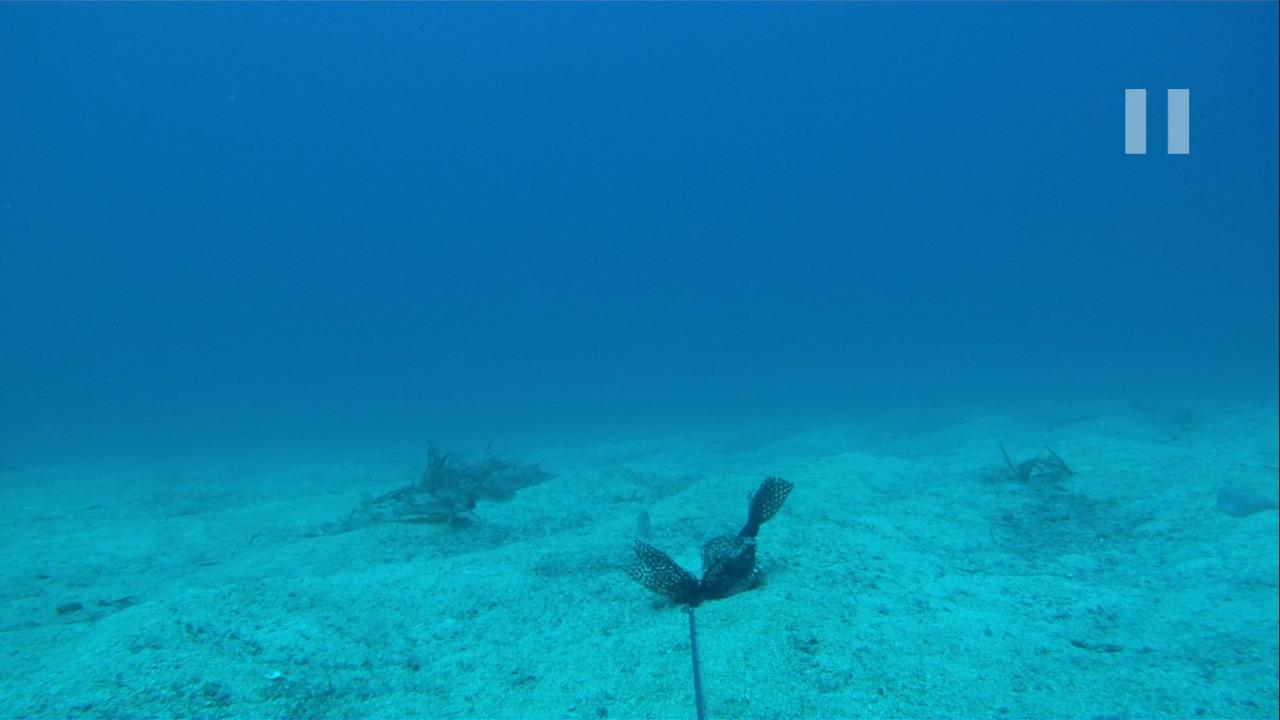dactylopterus: (294, 480, 482, 536)
raor: (1209, 480, 1272, 521), (630, 509, 653, 545)
